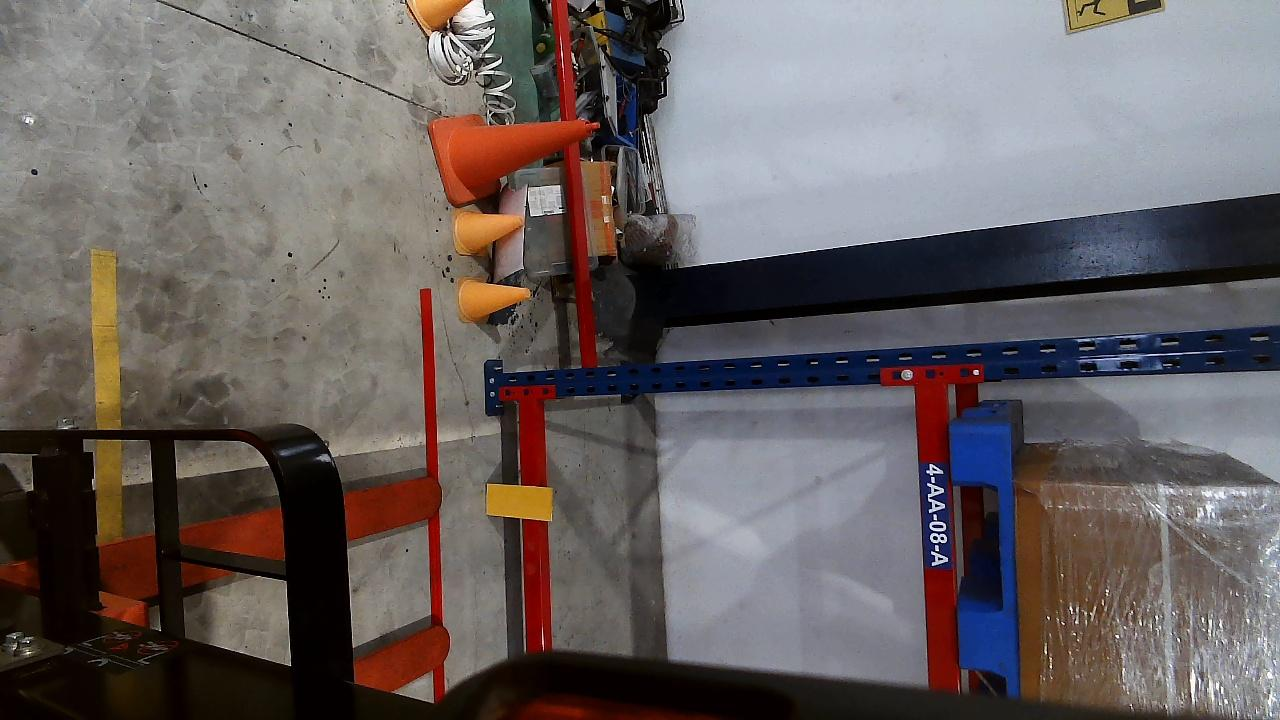h_rack: (911, 380, 964, 692), (516, 398, 550, 651)
orange_strip: (484, 484, 554, 521)
red_line: (416, 290, 447, 670)
small_pallet: (946, 424, 1019, 694)
yellow_line: (89, 248, 130, 541)
